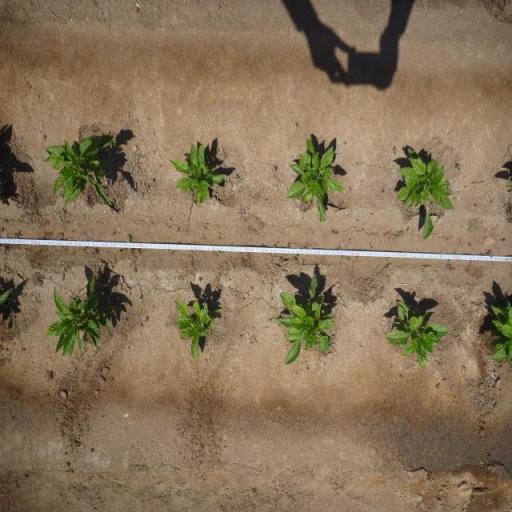plant: (44, 271, 118, 363), (43, 131, 115, 209), (279, 271, 335, 366), (396, 142, 454, 232), (386, 297, 456, 369), (286, 137, 343, 222), (166, 142, 226, 204), (173, 297, 222, 367), (485, 297, 512, 366)
weed: (117, 174, 126, 184), (454, 162, 463, 171), (396, 229, 404, 239), (446, 264, 456, 272), (486, 250, 494, 258), (13, 231, 21, 239), (82, 246, 92, 252), (392, 146, 398, 155), (275, 318, 281, 327), (330, 229, 338, 235), (127, 234, 133, 242), (336, 244, 342, 250), (252, 229, 258, 235), (234, 174, 240, 180), (214, 250, 220, 256), (122, 248, 128, 254), (92, 250, 98, 256), (294, 122, 300, 128), (130, 247, 135, 254), (346, 256, 352, 261), (356, 160, 360, 167), (176, 228, 181, 233), (287, 242, 291, 248), (272, 244, 278, 248), (150, 178, 154, 184), (198, 278, 203, 282), (294, 254, 300, 257), (370, 246, 373, 252), (59, 232, 63, 236), (352, 256, 358, 258), (344, 141, 346, 145), (112, 232, 114, 236)
